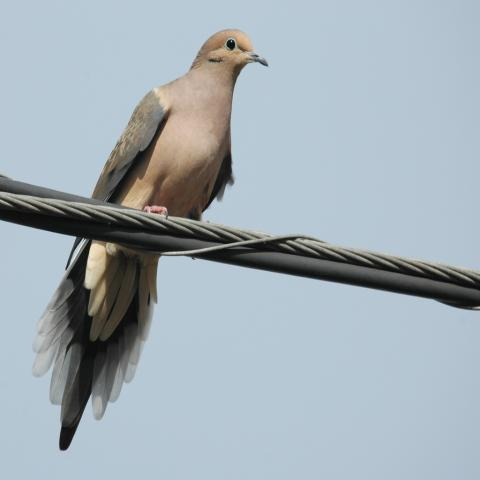bird: (30, 27, 270, 450)
